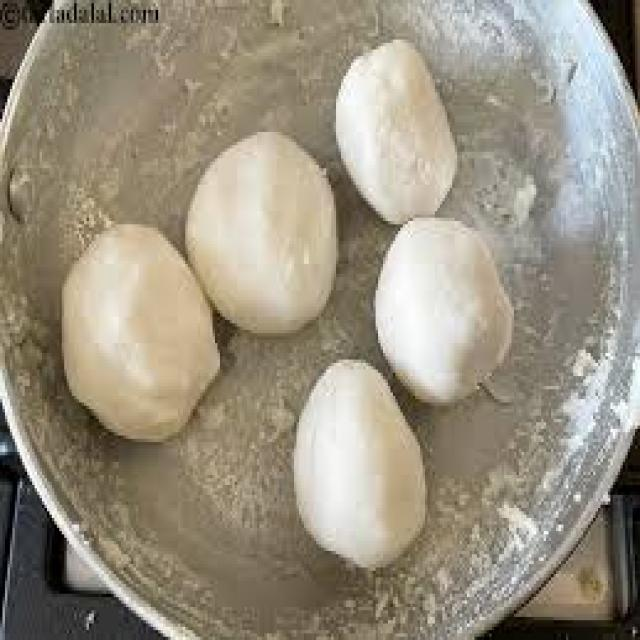IDLI: (62, 218, 217, 439), (294, 363, 418, 561)
